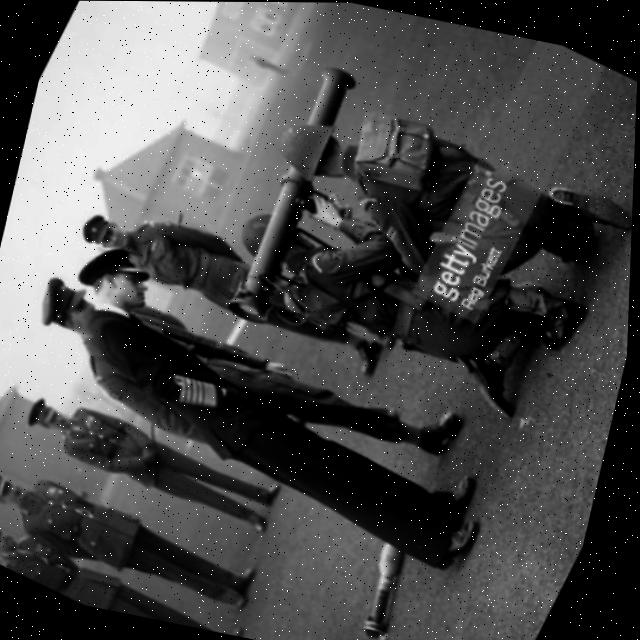rocket: (203, 49, 389, 345)
